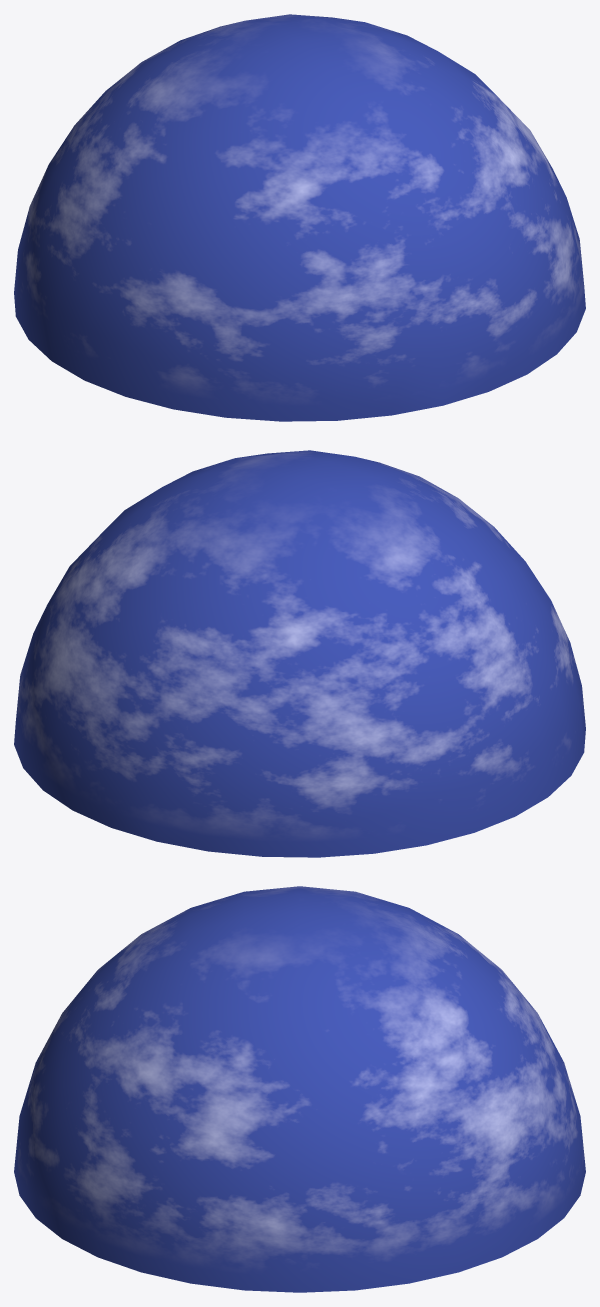
File: skydome.obj
The picture shows the model from 3 angles, top to bottom: view 1: azimuth 30°, elevation 25°; view 2: azimuth 150°, elevation 25°; view 3: azimuth 270°, elevation 25°; orthographic projection.
Visible parts, largest first — view 1: 球.001; view 2: 球.001; view 3: 球.001.
Part boxes in pixels (x1,y1,x2,y2): 球.001: (14, 14, 585, 421); 球.001: (14, 450, 585, 857); 球.001: (14, 886, 585, 1292).
Size of the model in its own units: 1020 by 510 by 1020.
Materials: 1 (1 with a texture image).
